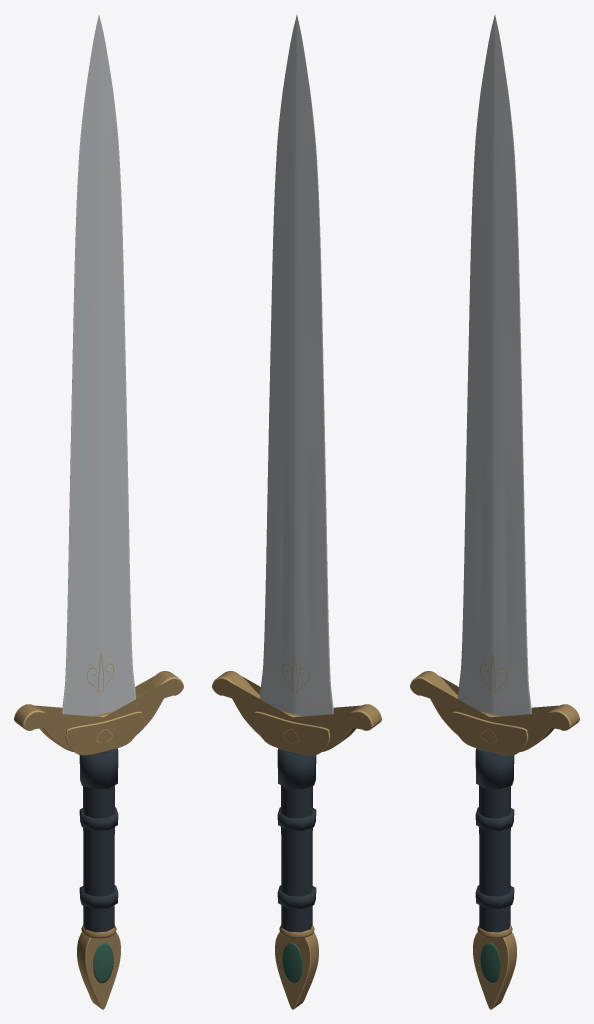
Rendered from SM_PlayerSword_A_DetailV02.fbx.
3 renders of one model, left to right at view 1: azimuth 30°, elevation 25°; view 2: azimuth 150°, elevation 25°; view 3: azimuth 330°, elevation 25°, orthographic.
Parts seen in each view (by area): view 1: SM_PlayerSword_A_DetailV02; view 2: SM_PlayerSword_A_DetailV02; view 3: SM_PlayerSword_A_DetailV02.
Boxes of the visible parts, box(x1,y1,x2,y2) form: SM_PlayerSword_A_DetailV02: box(14, 15, 183, 1009); SM_PlayerSword_A_DetailV02: box(212, 15, 381, 1009); SM_PlayerSword_A_DetailV02: box(410, 15, 579, 1009).
Bounding box in the file's own units: 13.3 × 2.84 × 78.31.
